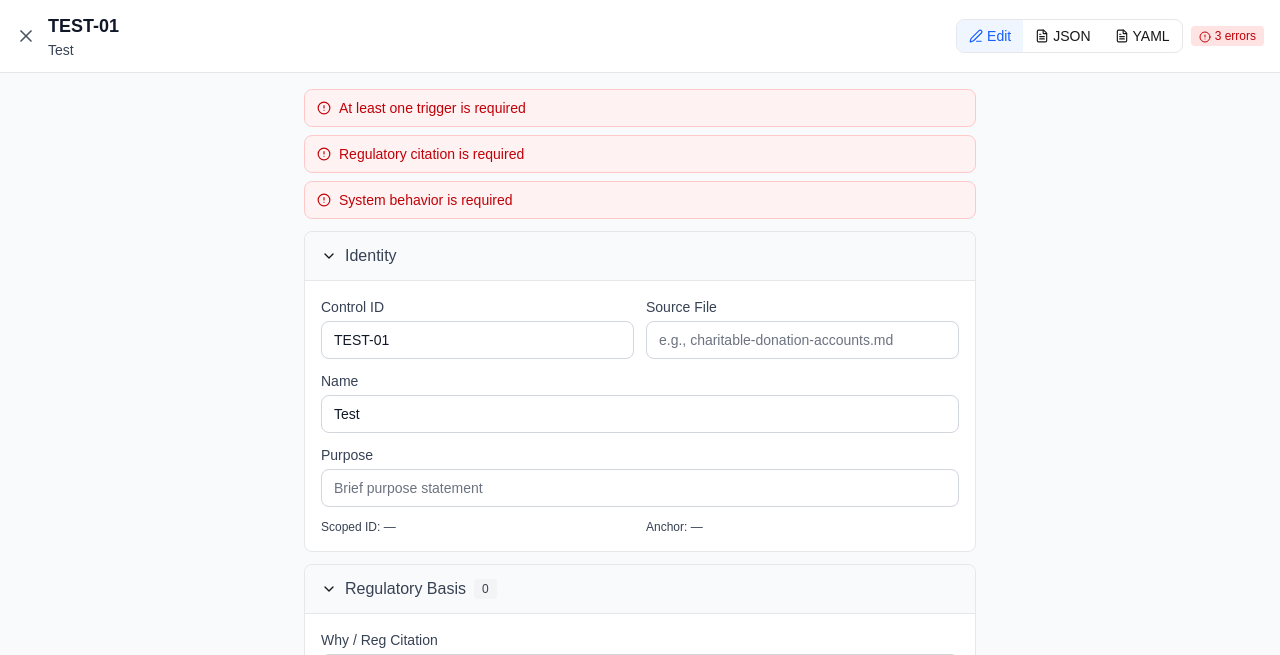
ControlEditor › tab switching › switches to YAML tab
The width and height of the screenshot is (1280, 655).
Click the button "YAML" at (1142, 36), box [1102, 20, 1182, 52]
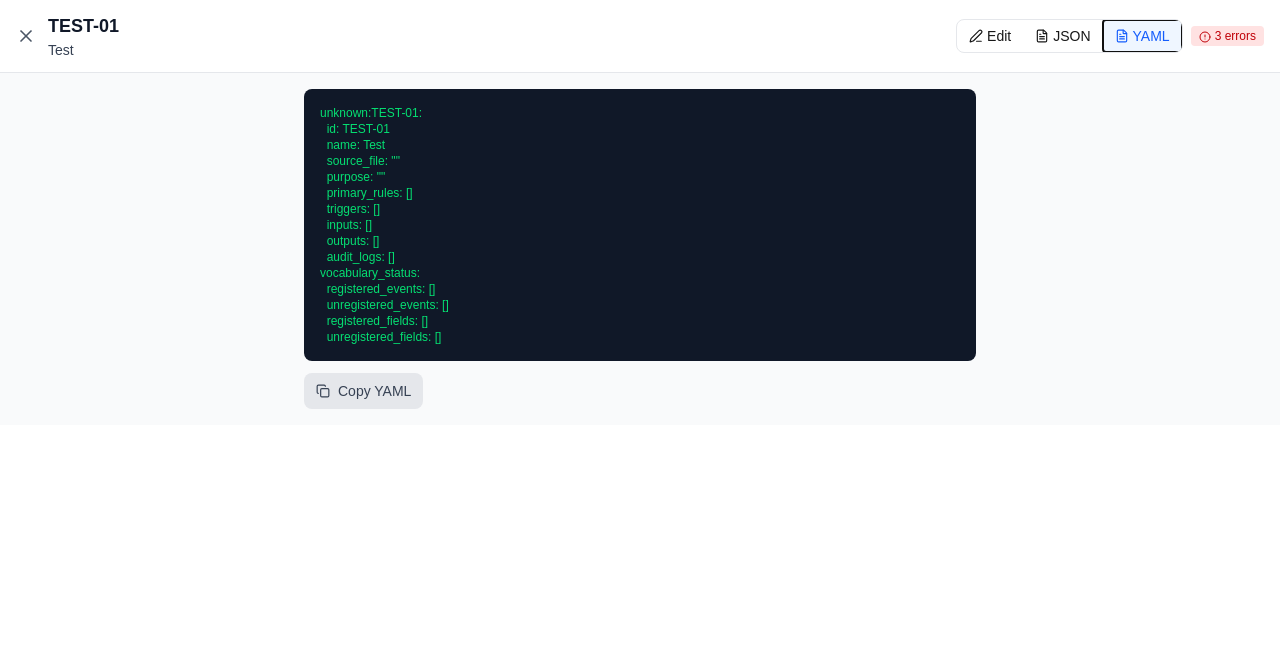
Result: the button "Copy YAML" is shown at [304, 373, 423, 409]
